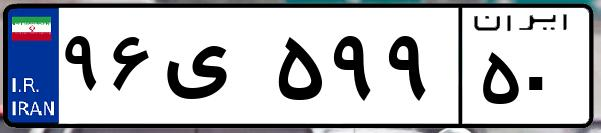0: (525, 38, 570, 115)
5: (270, 28, 330, 110), (475, 38, 525, 113)
6: (110, 28, 158, 98)
9: (385, 28, 445, 110), (330, 28, 385, 110), (57, 26, 110, 100)
ی: (158, 20, 270, 120)
